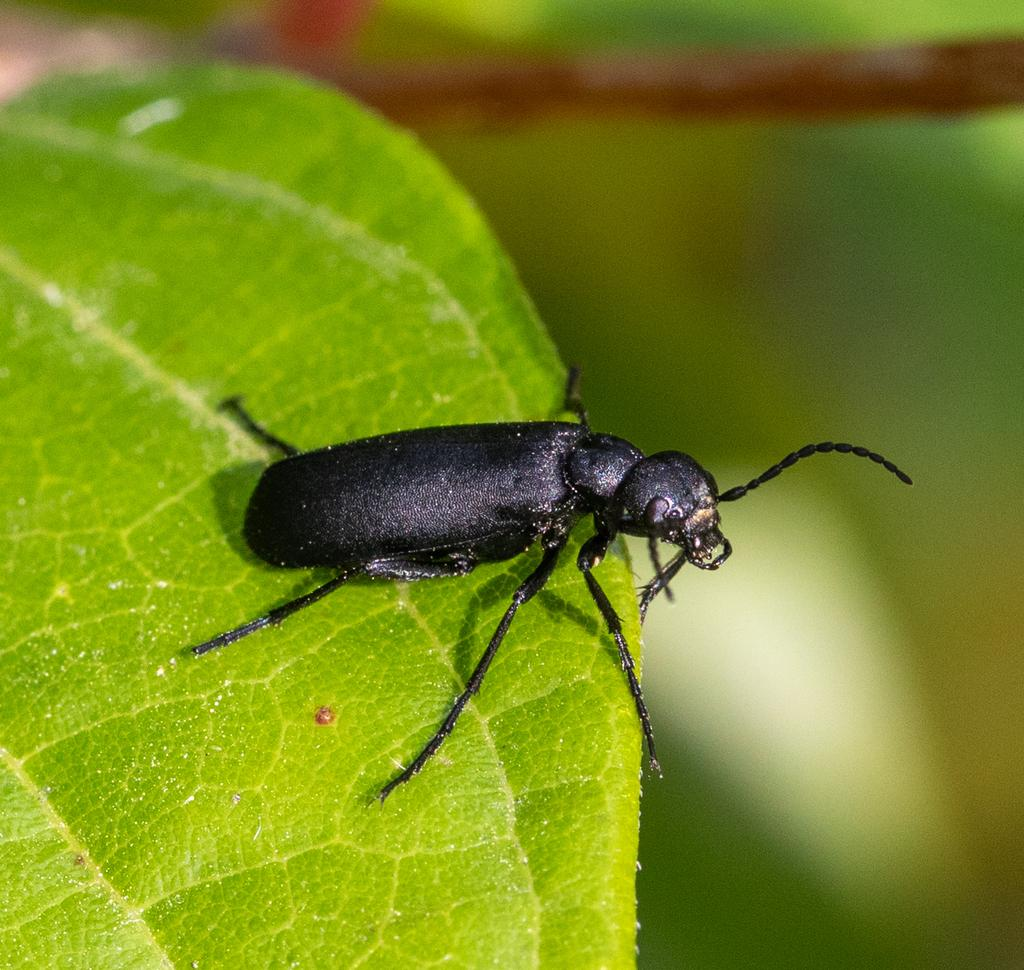blister_beetle: (92, 290, 1002, 900)
